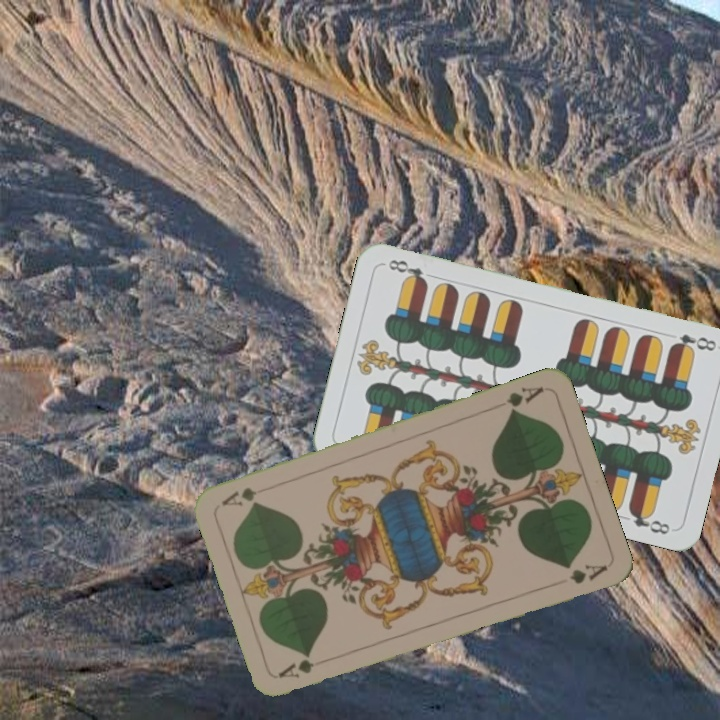E8: (667, 329, 719, 355)
GA: (502, 382, 547, 416), (275, 655, 317, 681)
